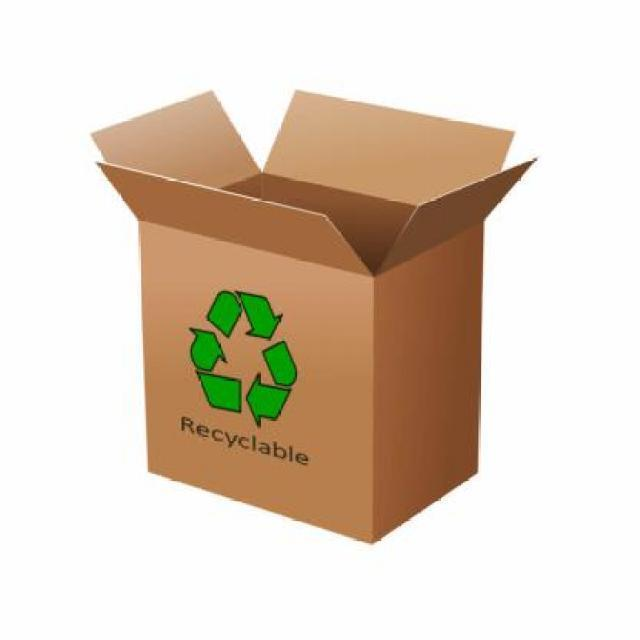box: (93, 89, 516, 546)
